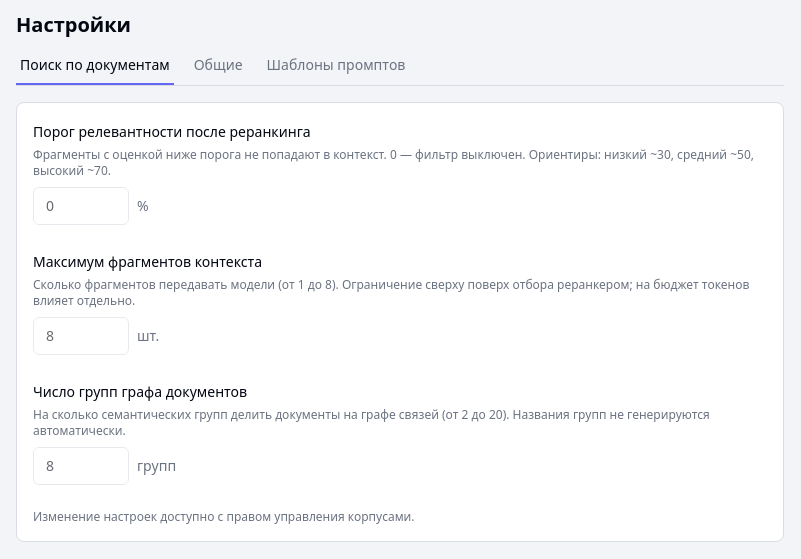
Scenario: SettingsPage — вкладка «Шаблоны промптов» (T-507) › показывает пустое состояние без шаблонов
What coordinates should you click on to do the following:
click the button with test id "settings-tab-prompts"
I would click on:
 (336, 70)
Its box is x1=263 y1=55 x2=409 y2=85.
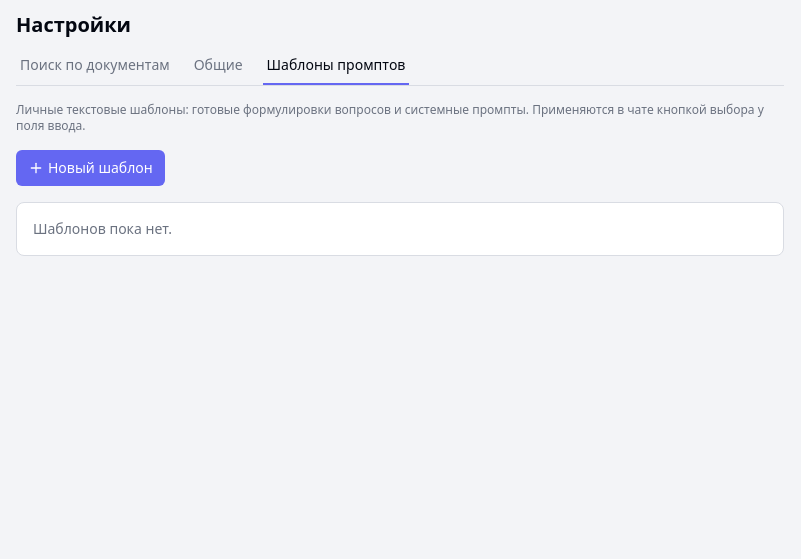
Check: the text "Шаблонов пока нет." is shown, box x1=16 y1=202 x2=784 y2=256
